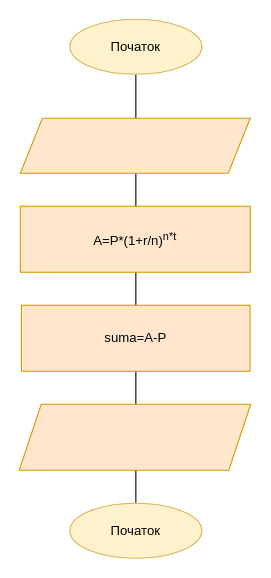
The diagram is 271 pixels wide and 578 high, and some of its shapes have lost their labels. Each missing label, with the box of its shape:
Виведення: P, A, suma: (18, 403, 251, 470)
Увведення : P, r, n, t: (19, 117, 250, 173)
